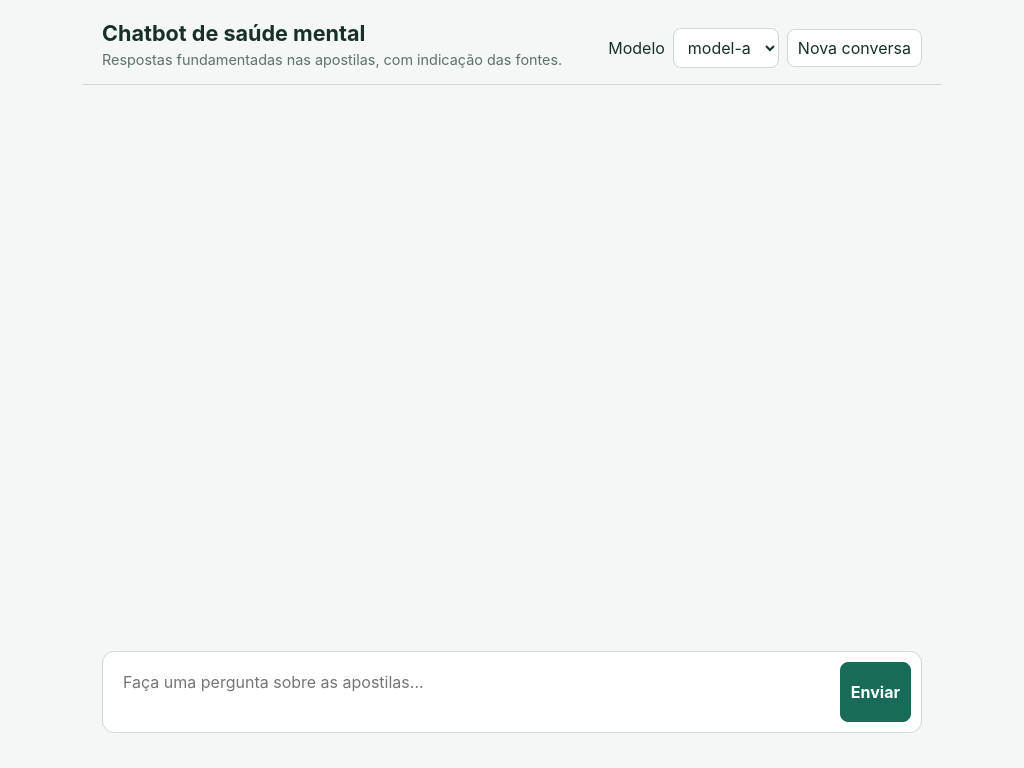
Test case: ChatPage › shows the HTTP error in the answer bubble
Type "Oi" into the text box named "Sua pergunta" at (471, 692), box left=113, top=662, right=830, bottom=722
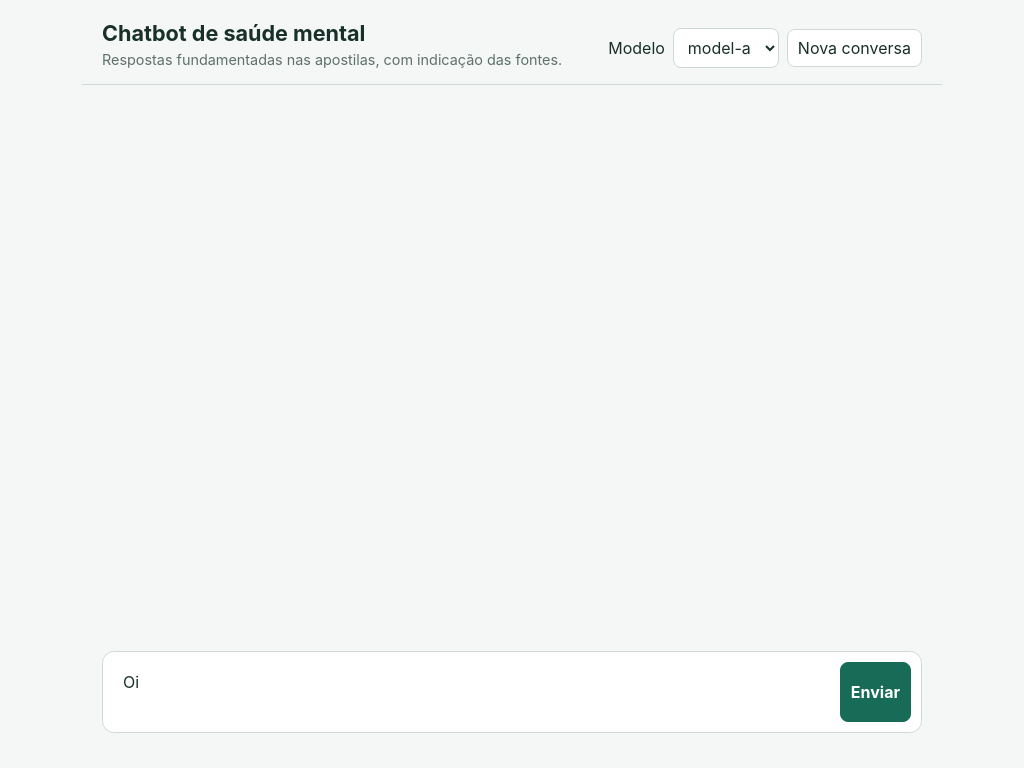
Click the button "Enviar" at (875, 692), box left=840, top=662, right=911, bottom=722
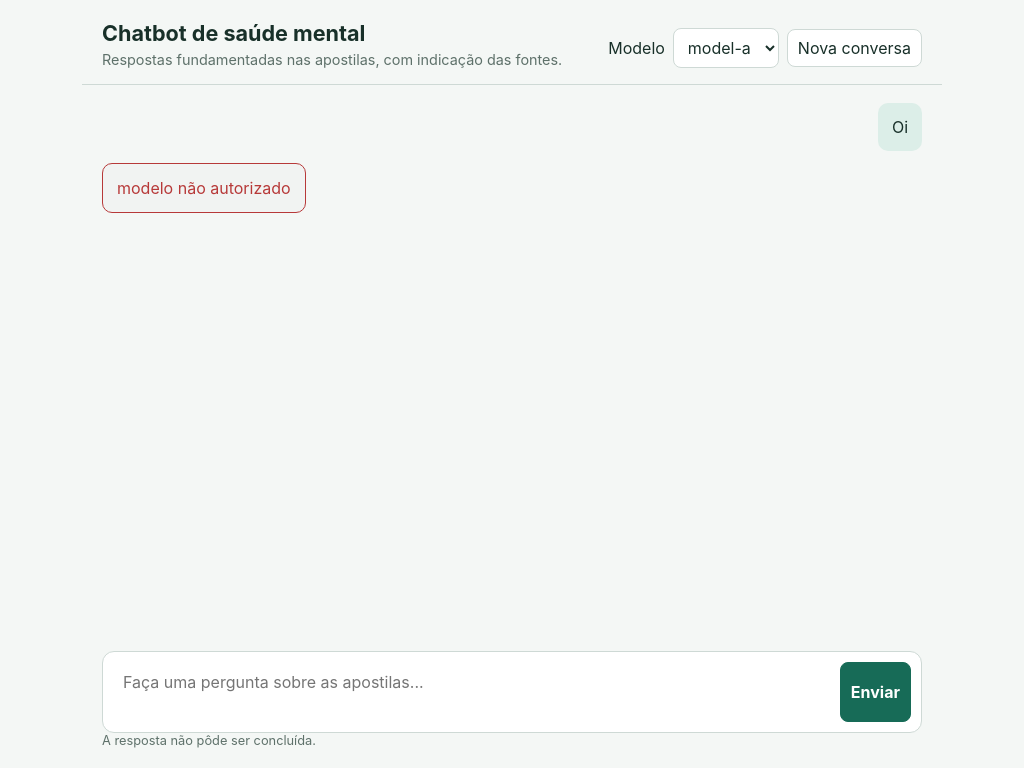
Expected: the message reads "A resposta não pôde ser concluída.", left=102, top=733, right=316, bottom=748
